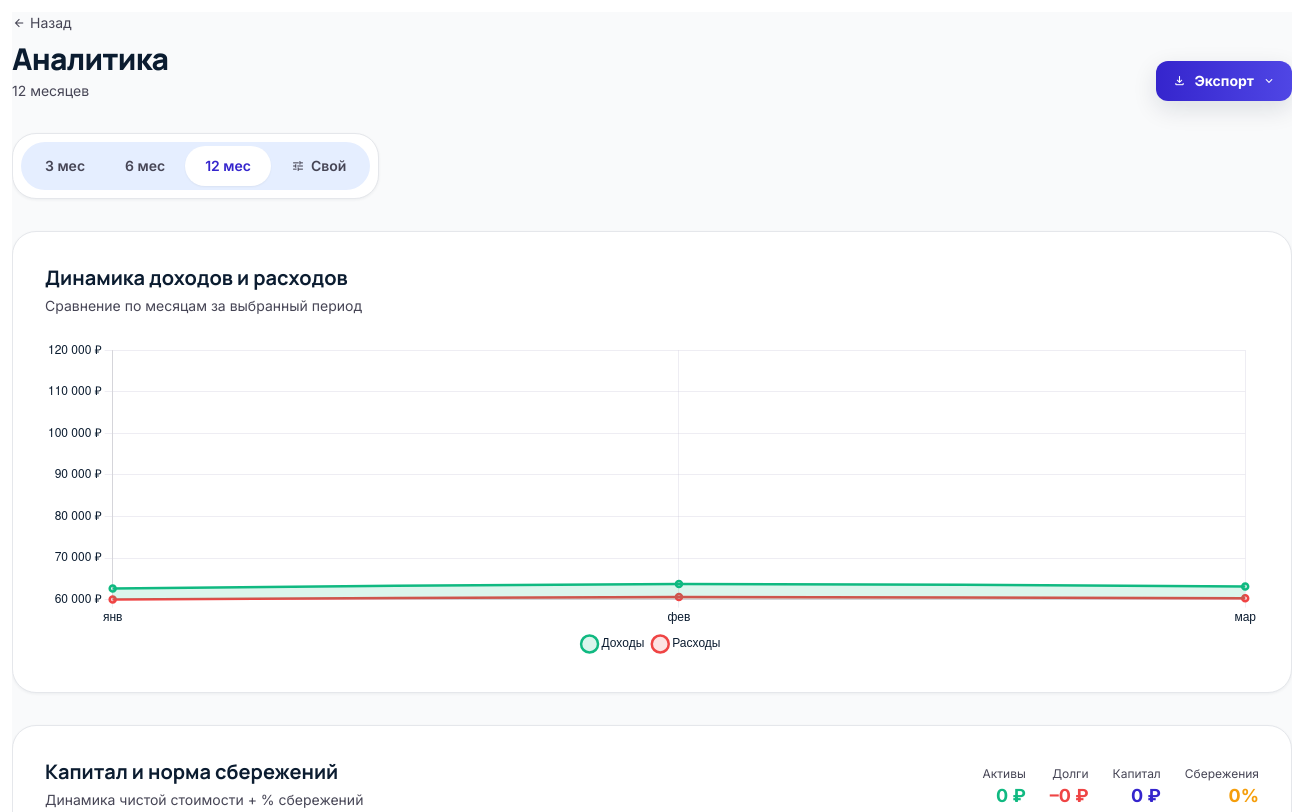
it: Analytics › switches period on preset click
Expected: the heading "Аналитика" is shown, [12,41,168,77]
Click the button "3 мес" at [65, 166], box [25,146,105,186]
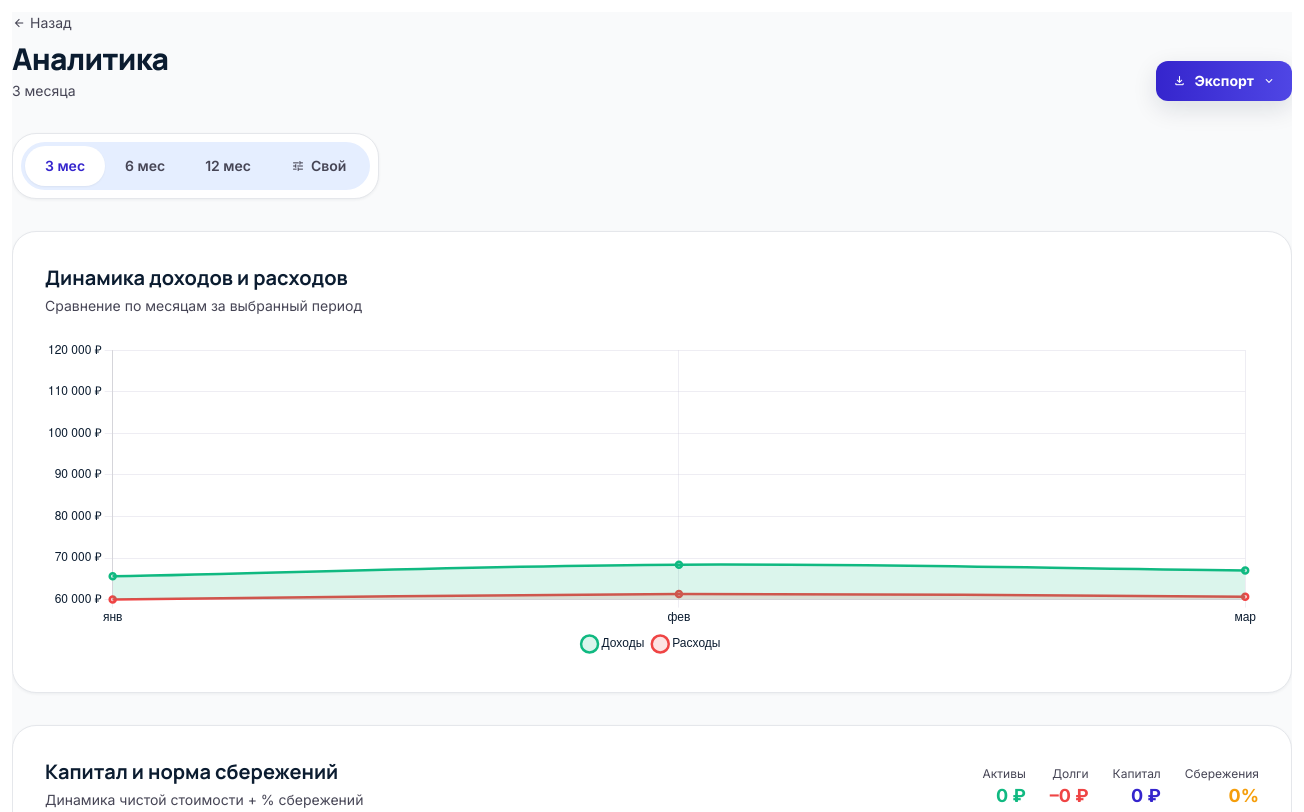
Expected: the text "3 месяца" is shown, [12,82,76,99]
